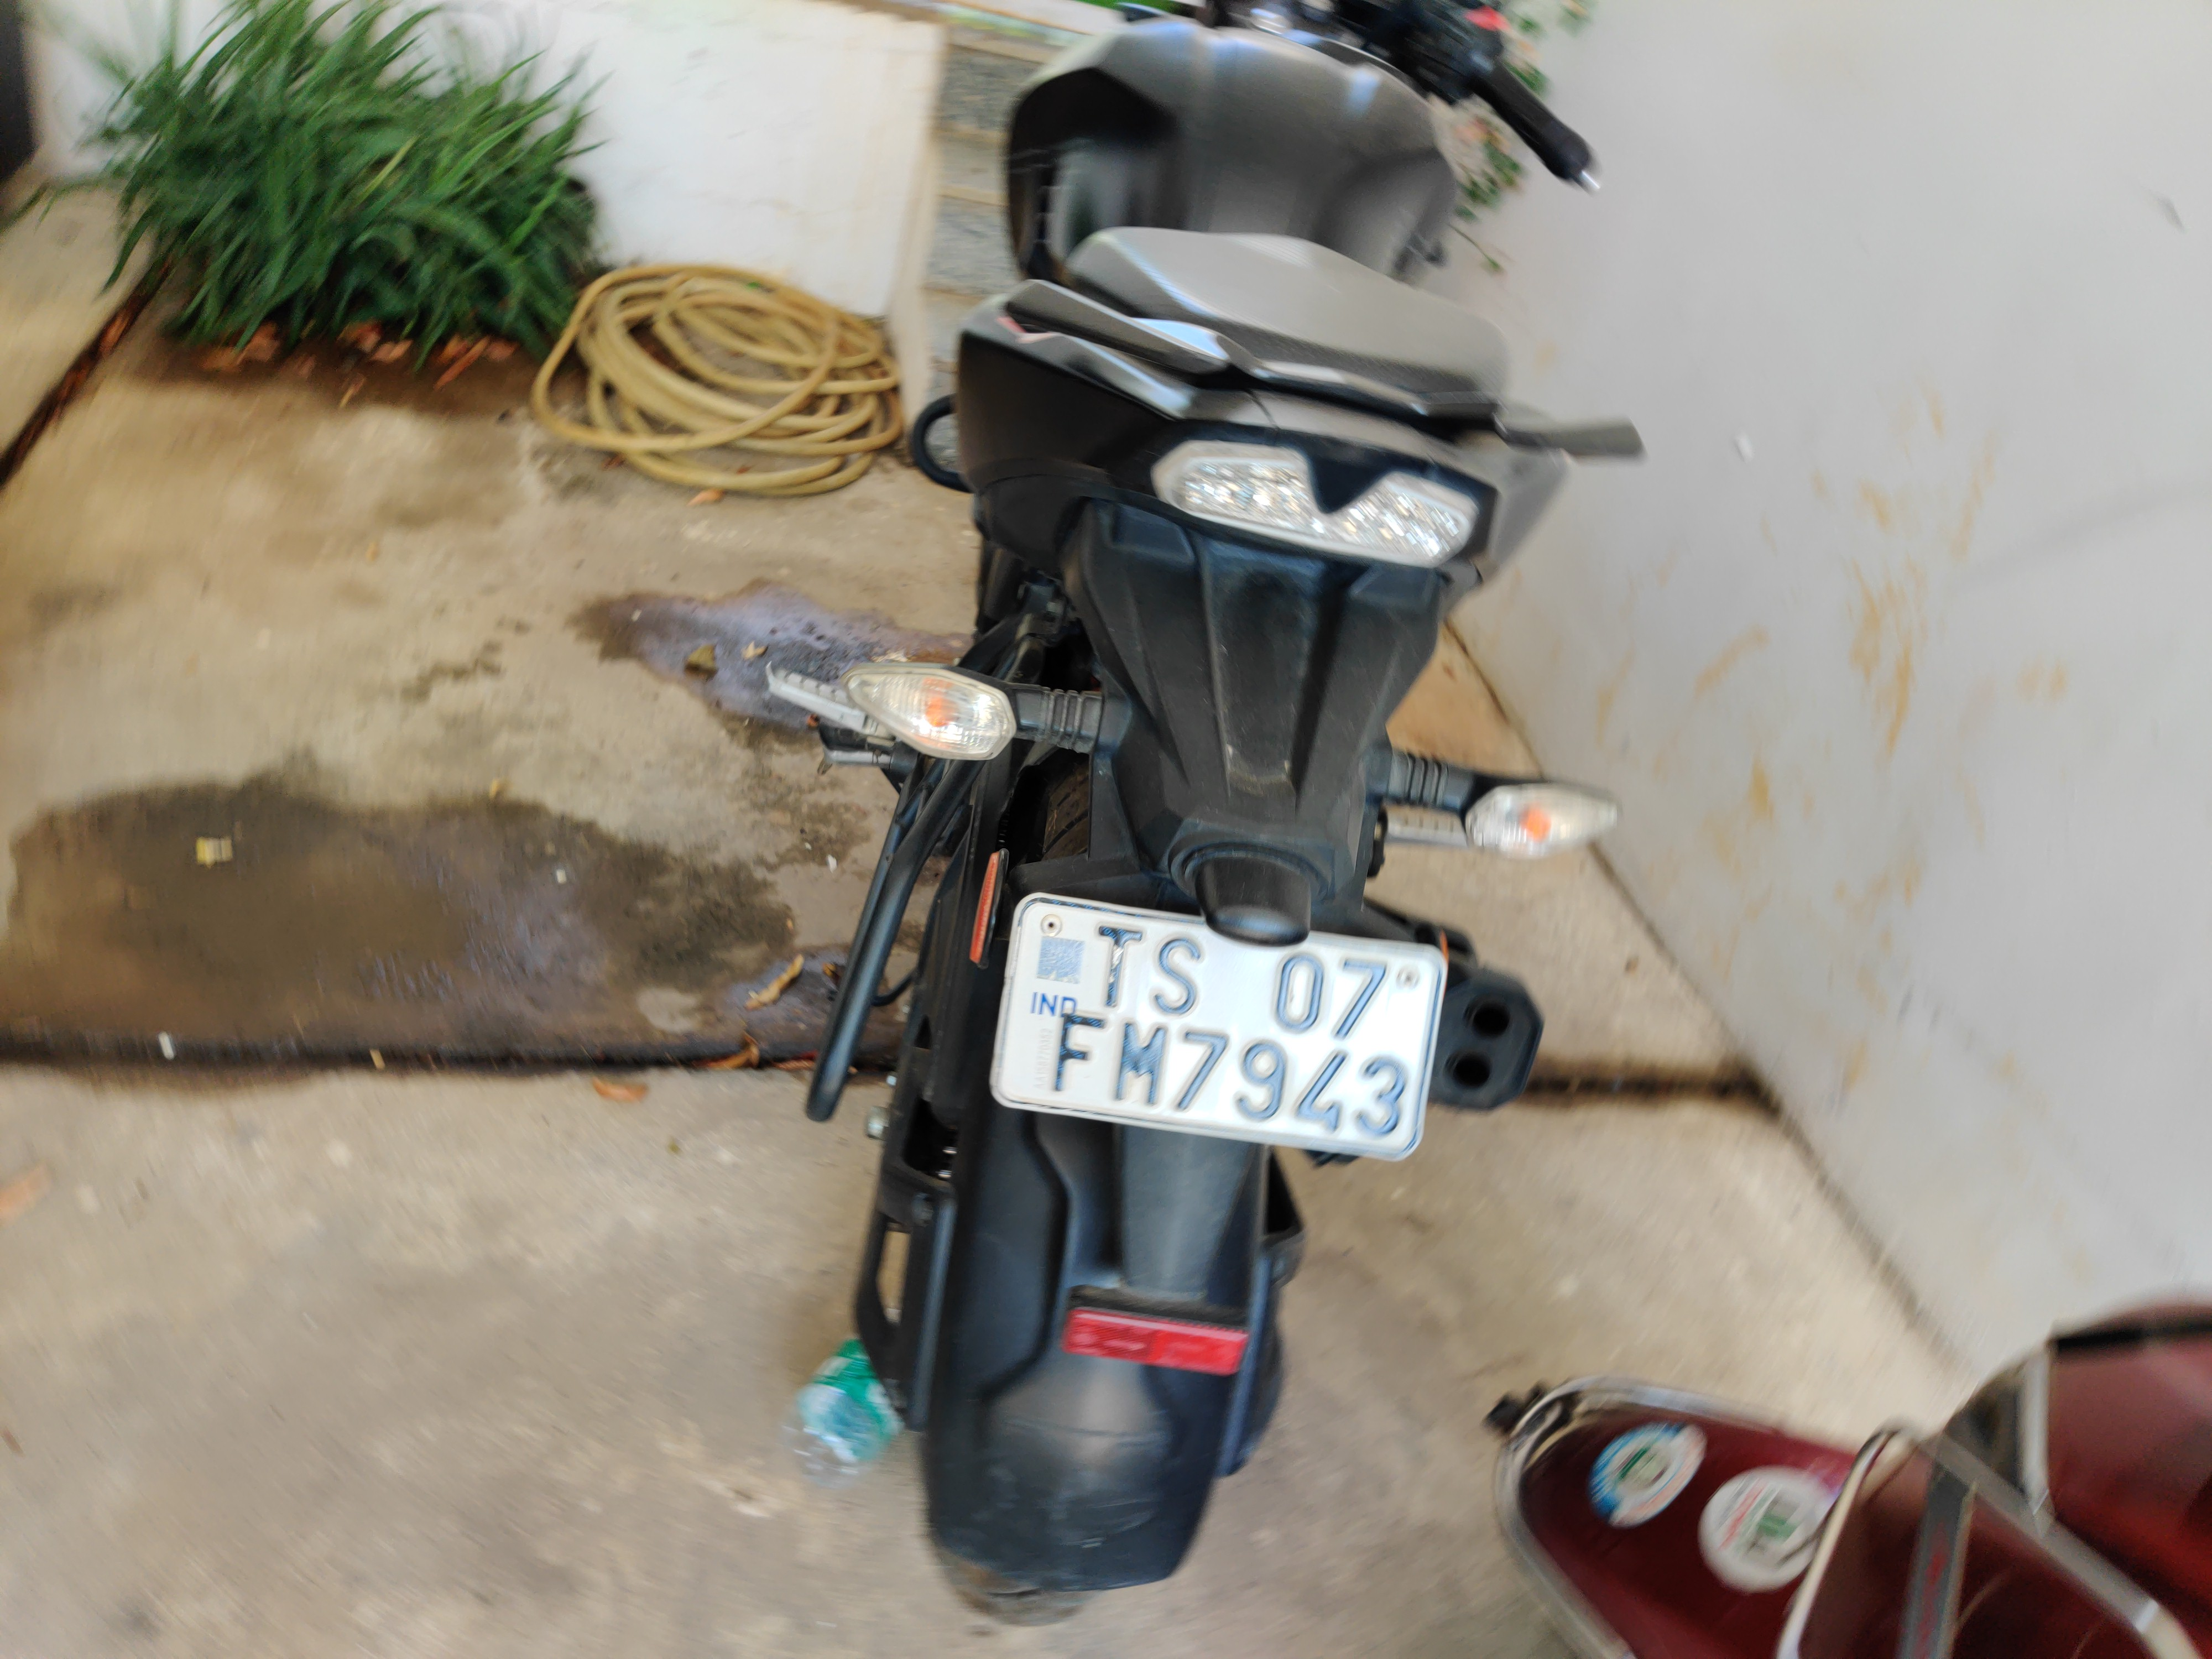plate: (968, 886, 1456, 1177)
